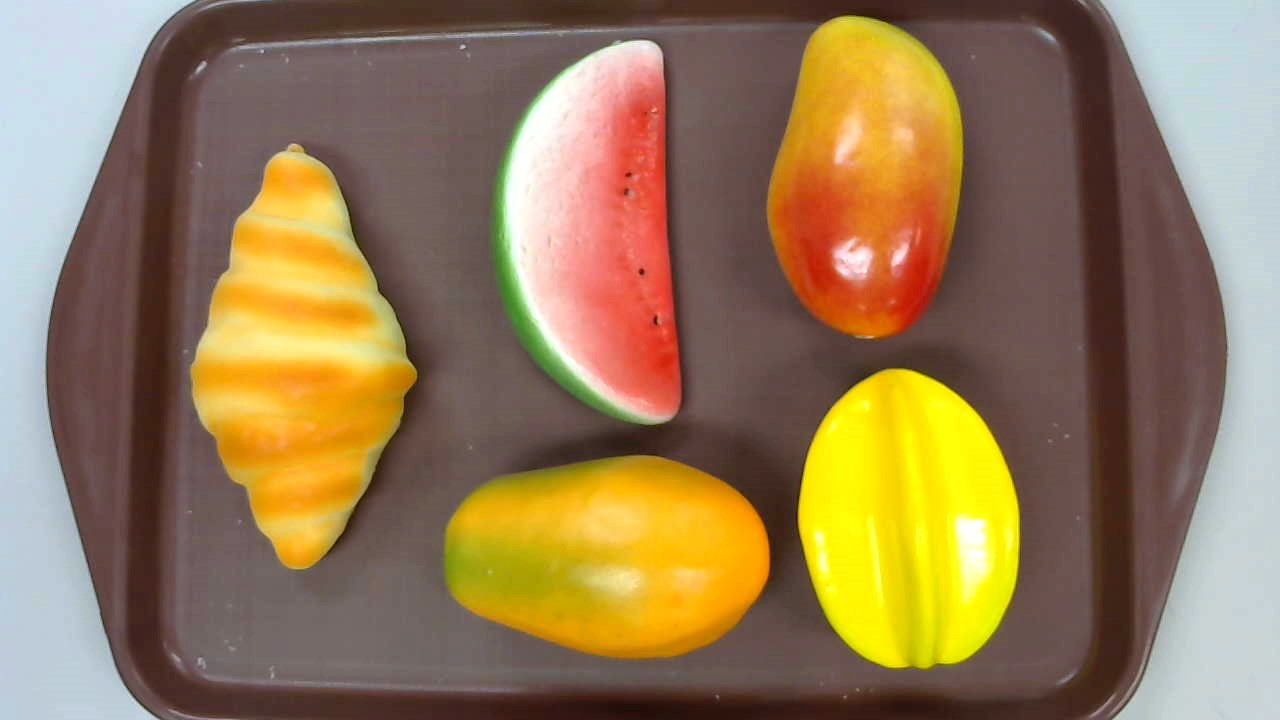croissant: (190, 141, 417, 570)
papya: (441, 454, 771, 659)
red mango: (767, 16, 964, 339)
star fruit: (798, 367, 1020, 669)
water melon: (488, 38, 683, 427)
